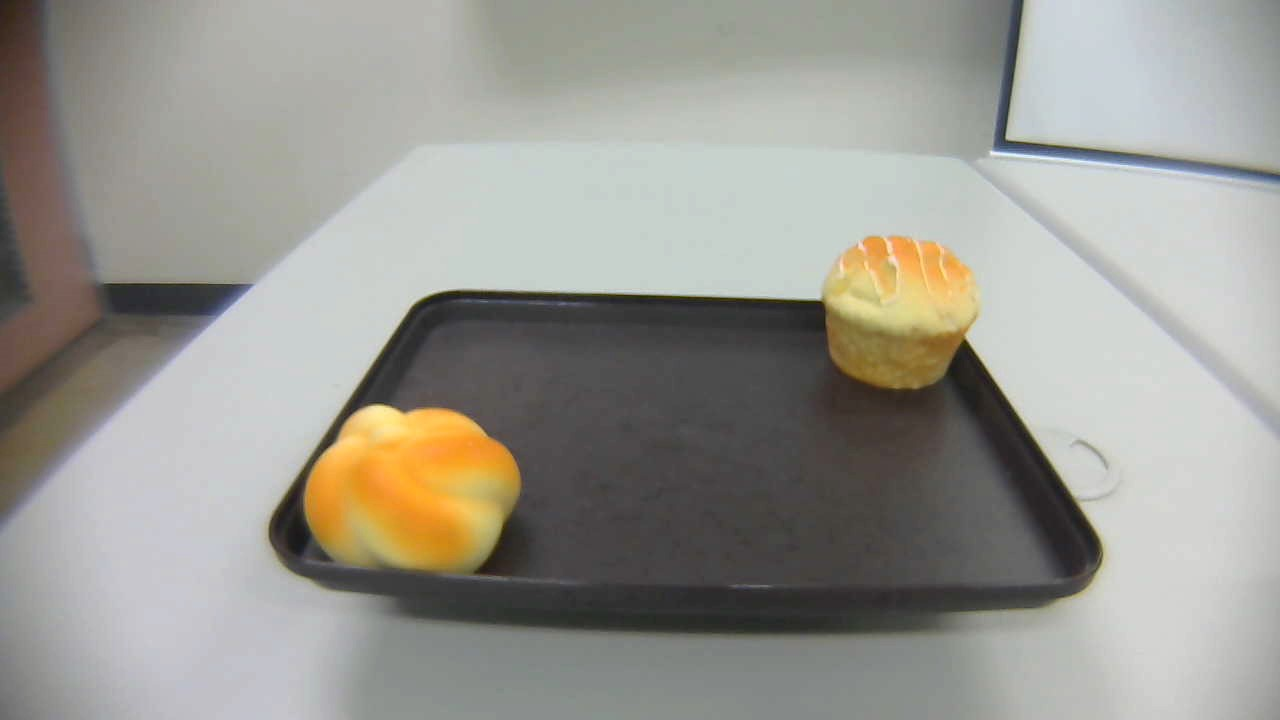cupcake: (821, 233, 982, 392)
twist bread: (302, 404, 524, 581)
